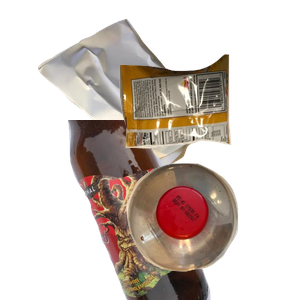glass: (65, 120, 300, 300)
paper: (35, 10, 237, 178)
plastic: (124, 161, 300, 300)
trash: (117, 52, 300, 193)
